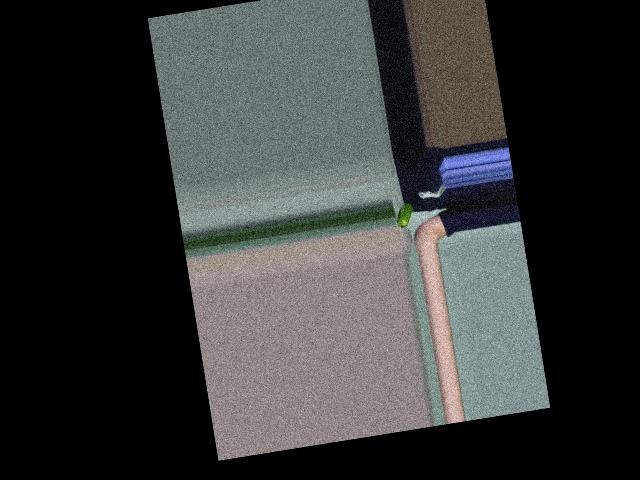cucumber: (394, 202, 415, 228)
